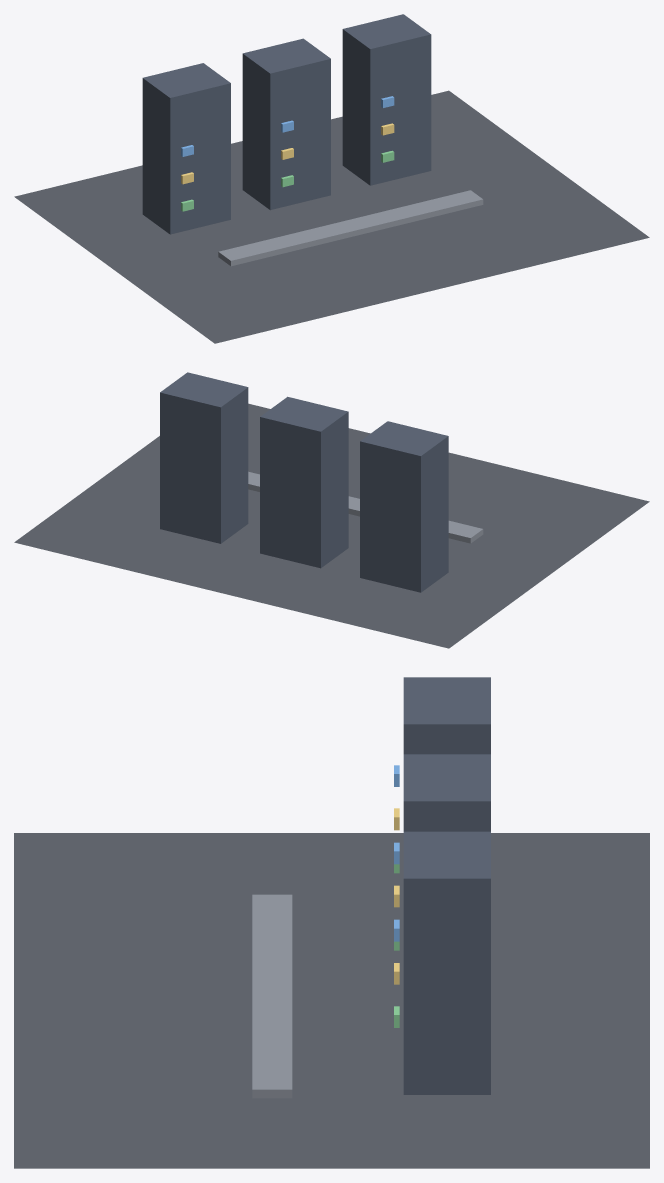
Rendered from world.glb.
3 renders of one model, top to bottom at view 1: azimuth 30°, elevation 25°; view 2: azimuth 150°, elevation 25°; view 3: azimuth 270°, elevation 25°, orthographic. The views are drawn at different scales.
Parts seen in each view (by area): view 1: servers_opaque_mesh, servers_emissive_mesh; view 2: servers_opaque_mesh; view 3: servers_opaque_mesh, servers_emissive_mesh.
Boxes of the visible parts, box(x1,y1,x2,y2) form: servers_opaque_mesh: box(14, 14, 649, 343); servers_emissive_mesh: box(181, 96, 394, 211); servers_opaque_mesh: box(14, 372, 649, 648); servers_opaque_mesh: box(14, 677, 649, 1168); servers_emissive_mesh: box(394, 765, 399, 1027).
Bounding box in the file's own units: 10 × 3 × 8.
